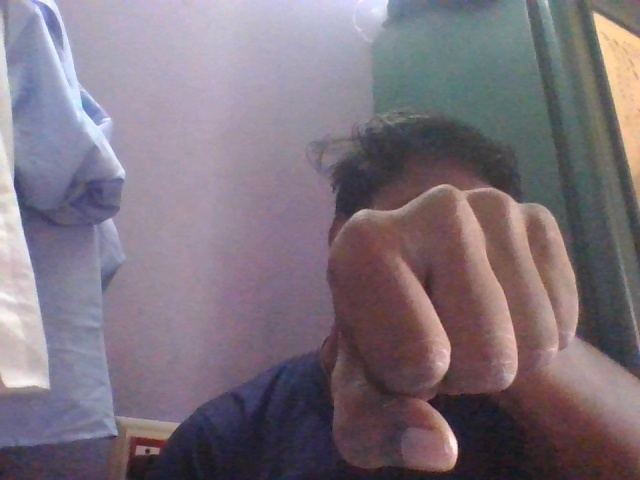yes: (285, 179, 640, 480)
